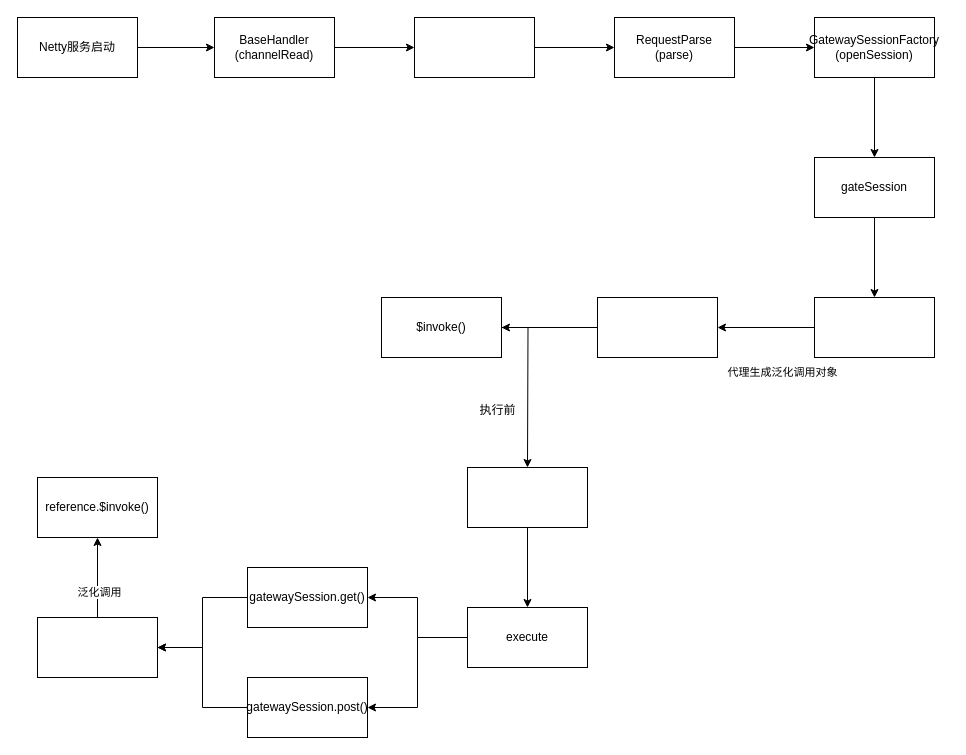
The diagram is 966 pixels wide and 755 high, and some of its shapes have lost their labels. Each missing label, with the centre of its shape:
"Connection.execute" goes at pixel 97 647.
"GatewayServerHandler (session)" goes at pixel 474 47.
"gatewaySession.getMapper" goes at pixel 874 327.
"IGenericReference" goes at pixel 657 327.
"拦截器调用intercept方法" goes at pixel 527 497.
